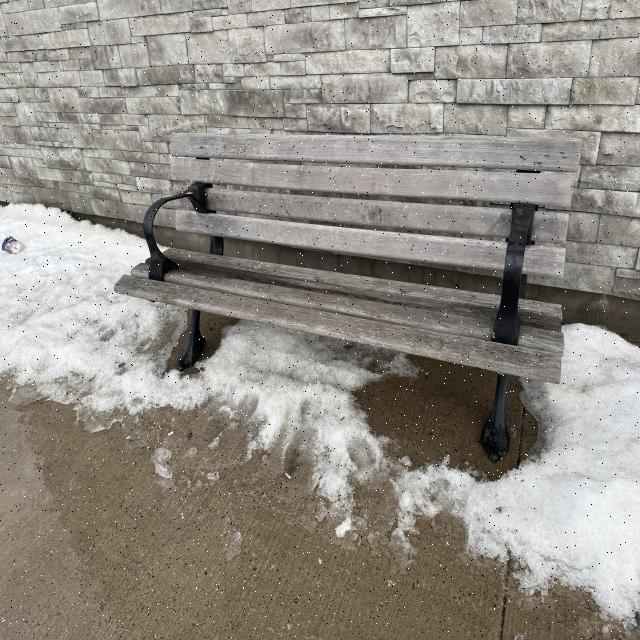Bench: (119, 136, 583, 429)
